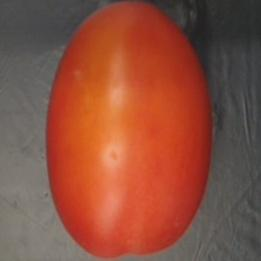unripe: (42, 0, 216, 261)
